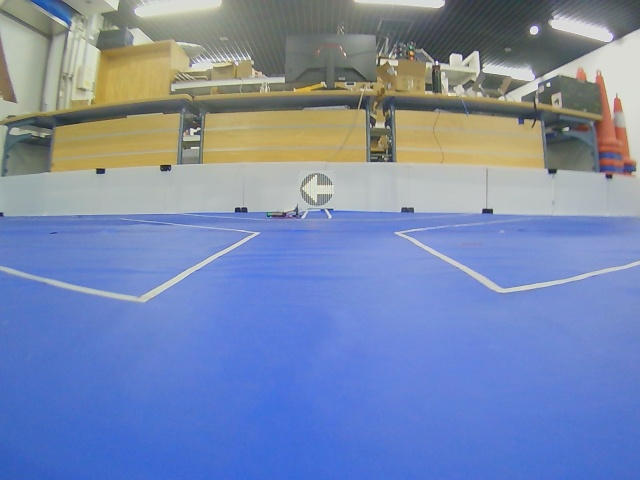left_yellow: (300, 173, 335, 206)
